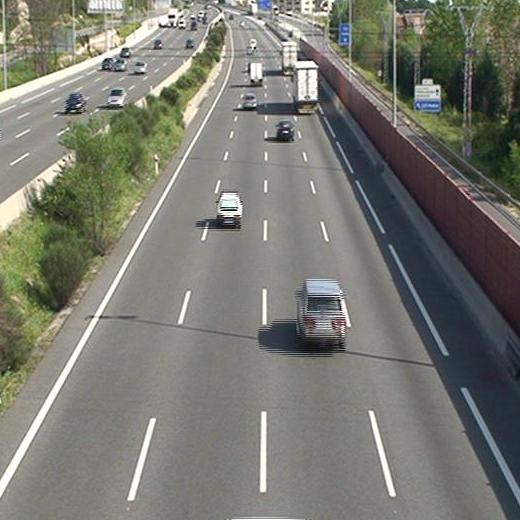car: (295, 279, 345, 344), (216, 192, 243, 226), (276, 120, 294, 139), (243, 92, 256, 109)
small-truck: (250, 62, 262, 87)
truck: (295, 61, 316, 113), (279, 40, 297, 74)
